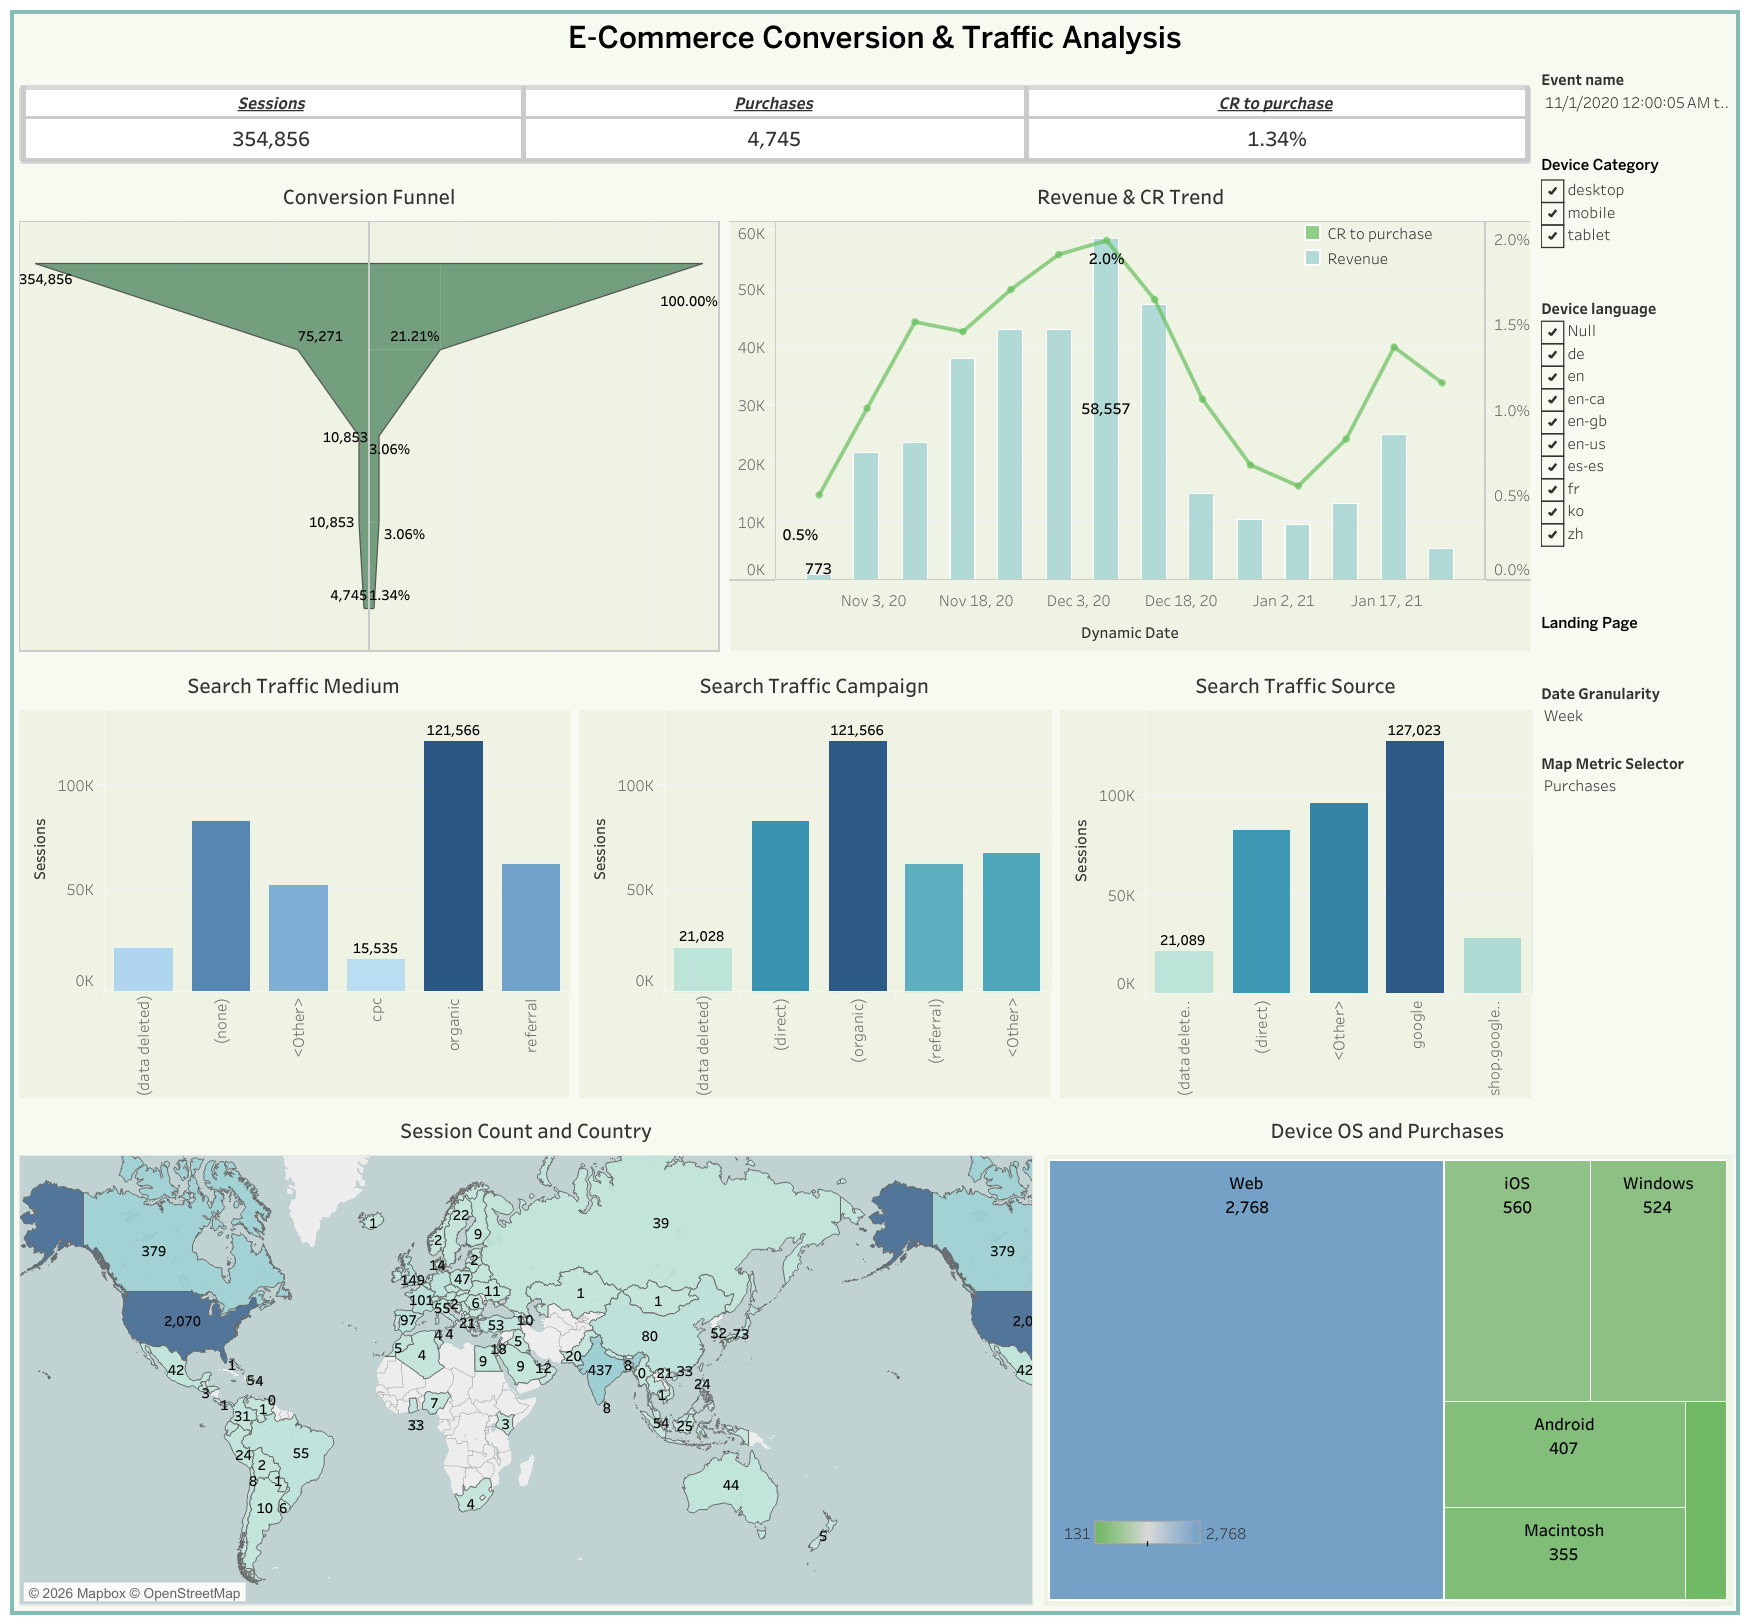

What the dashboard file says about the page in this screenshot:
{"tool":"tableau","page":{"name":"E-Commerce Conversion & Traffic Analysis","canvas":[1400,1300],"ordinal":0},"visuals":[{"type":"title","box":[11,11,1378,38]},{"type":"worksheet","title":"Key Metrics","mark":"Automatic","box":[11,49,1218,86]},{"type":"filter","title":"Revenue & CR Trend","param":"[federated.1872udt001x6ku1d8hb7x01t9i7l].[none:event_time:qk]","box":[1229,49,160,70]},{"type":"filter","title":"Conversion Funnel","param":"[federated.1872udt001x6ku1d8hb7x01t9i7l].[none:device_category:nk]","box":[1229,119,160,113]},{"type":"worksheet","title":"Conversion Funnel","mark":"Area","rows":["event_name"],"cols":["Calculation_1392282600886272","Calculation_1392282600886272"],"box":[11,135,569,391]},{"type":"worksheet","title":"Revenue & CR Trend","mark":"Bar","rows":["Calculation_1392282601050114","Calculation_0253738623340544"],"cols":["Calculation_1454130827689985"],"box":[580,135,649,391]},{"type":"legend","title":"Revenue & CR Trend","param":"[federated.1872udt001x6ku1d8hb7x01t9i7l].[:Measure Names]","box":[1040,176,157,69]},{"type":"filter","title":"Conversion Funnel","param":"[federated.1872udt001x6ku1d8hb7x01t9i7l].[none:device_language:nk]","box":[1229,232,160,253]},{"type":"filter","title":"Conversion Funnel","param":"[federated.1872udt001x6ku1d8hb7x01t9i7l].[none:landing_page_location:nk]","box":[1229,485,160,55]},{"type":"worksheet","title":"Search Traffic Medium","mark":"Automatic","rows":["Calculation_1392282600886272"],"cols":["medium"],"box":[11,526,448.2,356.4]},{"type":"worksheet","title":"Search Traffic Campaign","mark":"Automatic","rows":["Calculation_1392282600886272"],"cols":["campaign"],"box":[459.2,526,384.8,356.4]},{"type":"worksheet","title":"Search Traffic Source","mark":"Automatic","rows":["Calculation_1392282600886272"],"cols":["source"],"box":[844,526,384.8,356.4]},{"type":"parameter","param":"[Parameters].[Parameter 1454130827218944]","box":[1229,540,160,56]},{"type":"parameter","param":"[Parameters].[Parameter 1454130828443650]","box":[1229,596,160,56]},{"type":"worksheet","title":"Session Count and Country","mark":"Multipolygon","box":[11,882.4,820.4,406.6]},{"type":"worksheet","title":"Device OS and Purchases","mark":"Automatic","box":[831.4,882.4,557.6,406.6]},{"type":"legend","title":"Device OS and Purchases","param":"[federated.1872udt001x6ku1d8hb7x01t9i7l].[usr:Calculation_1392282600960001:qk]","box":[847,1213,155,65]}]}

Visuals, with their boxes in screenshot pixels (x1, y1, x2, y2), scaled from the page's 1400x1300 canvas onto the 1749x1624 screenshot:
title: (left=14, top=14, right=1735, bottom=61)
"Key Metrics" worksheet: (left=14, top=61, right=1535, bottom=169)
"Revenue & CR Trend" filter: (left=1535, top=61, right=1735, bottom=149)
"Conversion Funnel" filter: (left=1535, top=149, right=1735, bottom=290)
"Conversion Funnel" worksheet (Area marks): (left=14, top=169, right=725, bottom=657)
"Revenue & CR Trend" worksheet (Bar marks): (left=725, top=169, right=1535, bottom=657)
"Revenue & CR Trend" legend: (left=1299, top=220, right=1495, bottom=306)
"Conversion Funnel" filter: (left=1535, top=290, right=1735, bottom=606)
"Conversion Funnel" filter: (left=1535, top=606, right=1735, bottom=675)
"Search Traffic Medium" worksheet: (left=14, top=657, right=574, bottom=1102)
"Search Traffic Campaign" worksheet: (left=574, top=657, right=1054, bottom=1102)
"Search Traffic Source" worksheet: (left=1054, top=657, right=1535, bottom=1102)
parameter: (left=1535, top=675, right=1735, bottom=745)
parameter: (left=1535, top=745, right=1735, bottom=814)
"Session Count and Country" worksheet (Multipolygon marks): (left=14, top=1102, right=1039, bottom=1610)
"Device OS and Purchases" worksheet: (left=1039, top=1102, right=1735, bottom=1610)
"Device OS and Purchases" legend: (left=1058, top=1515, right=1252, bottom=1597)
